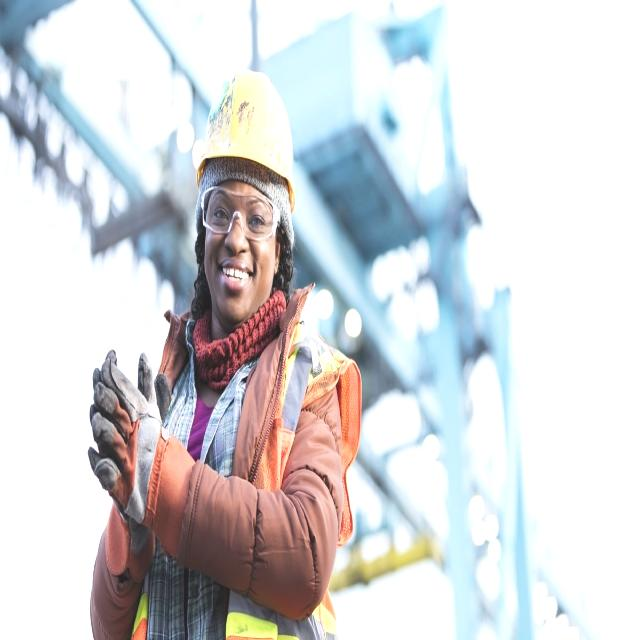Gloves: (92, 338, 162, 528)
Hard Hat: (188, 64, 299, 220)
Reflective Vest: (130, 313, 364, 640)
Safety Glasses: (200, 188, 290, 244)
